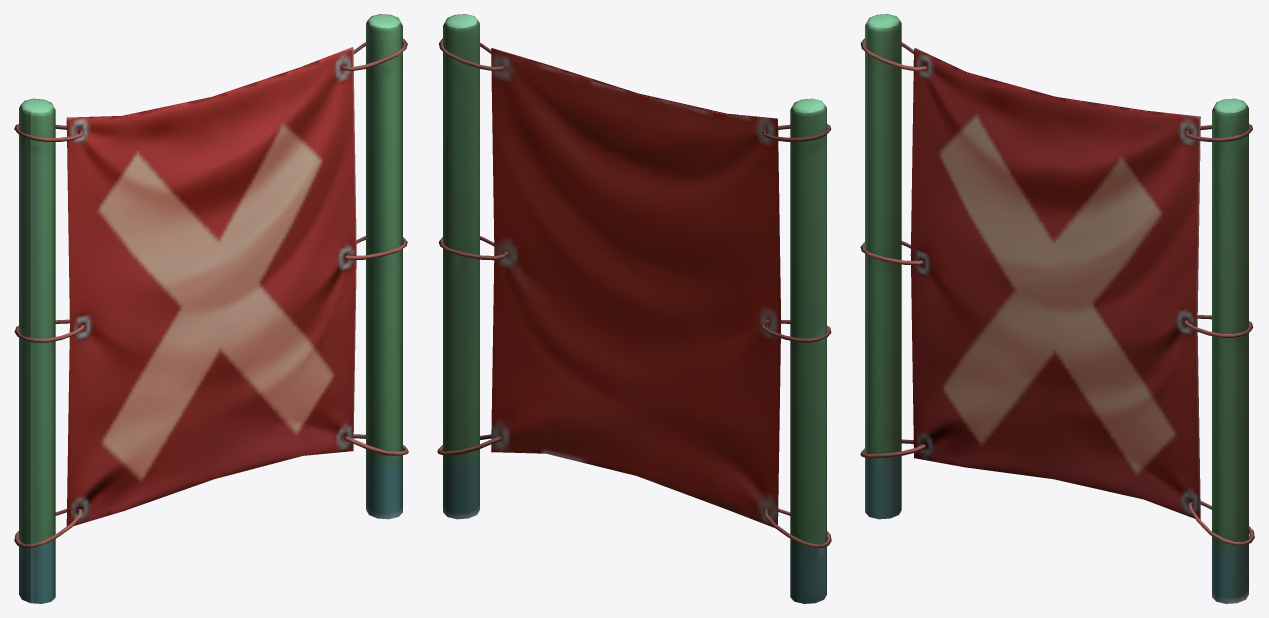
File: Barrier_1.fbx
The picture shows the model from 3 angles, left to right: view 1: azimuth 30°, elevation 25°; view 2: azimuth 150°, elevation 25°; view 3: azimuth 330°, elevation 25°; orthographic projection.
Visible parts, largest first — view 1: Barrier_1_low; view 2: Barrier_1_low; view 3: Barrier_1_low.
Boxes of the visible parts, x1,y1,x2,y2 form: Barrier_1_low: (14, 14, 408, 603); Barrier_1_low: (437, 14, 831, 603); Barrier_1_low: (860, 14, 1254, 603).
Bounding box in the file's own units: 209 × 253 × 22.71.
